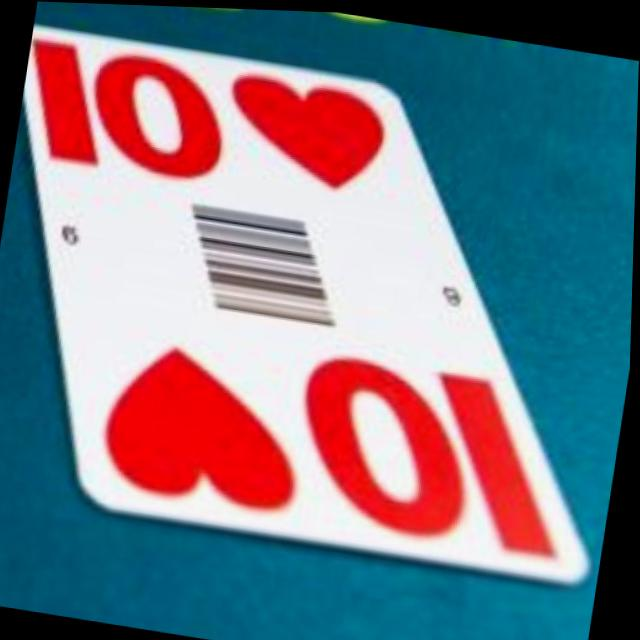Card-10: (24, 24, 594, 580)
